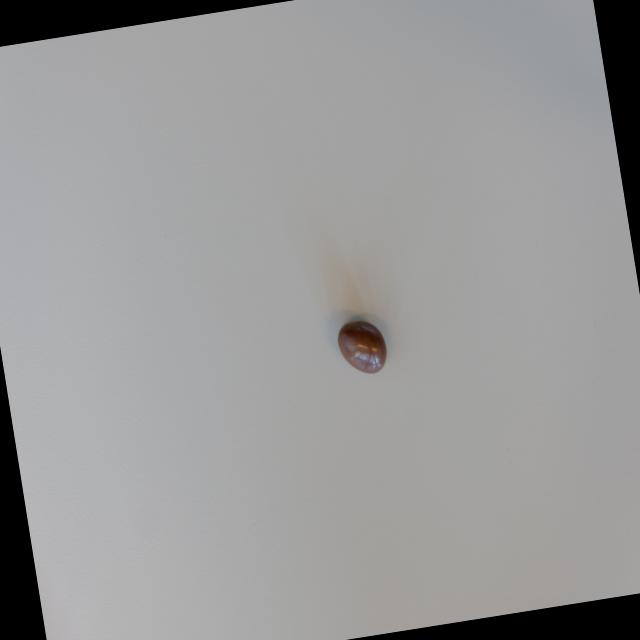Jelly_Milk: (335, 316, 390, 378)
